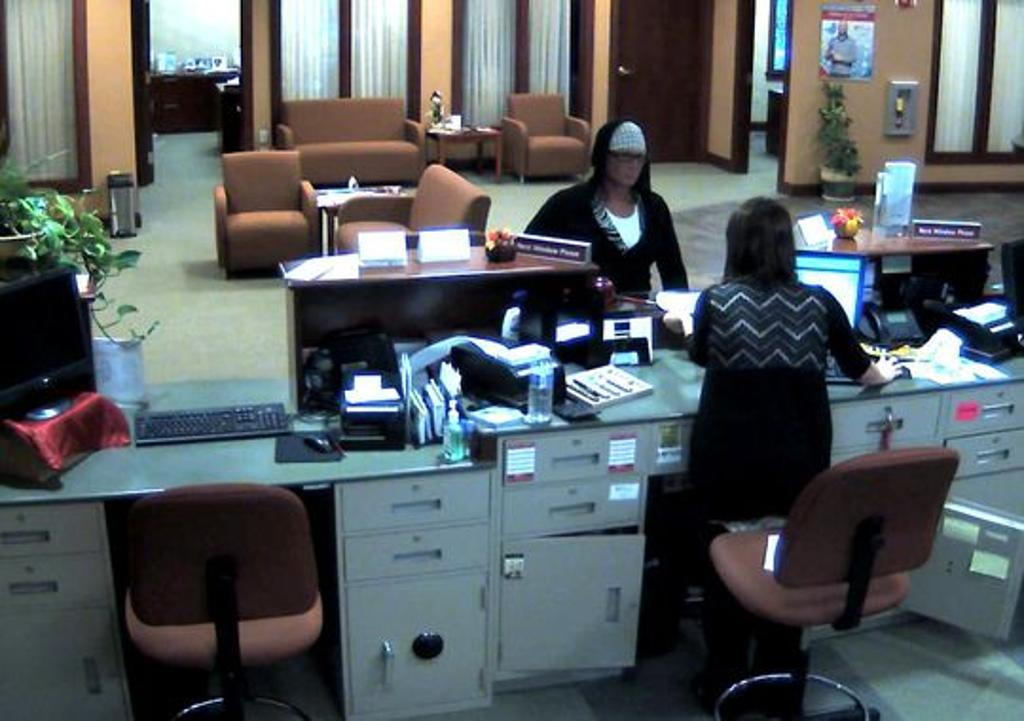face: (608, 140, 643, 184)
